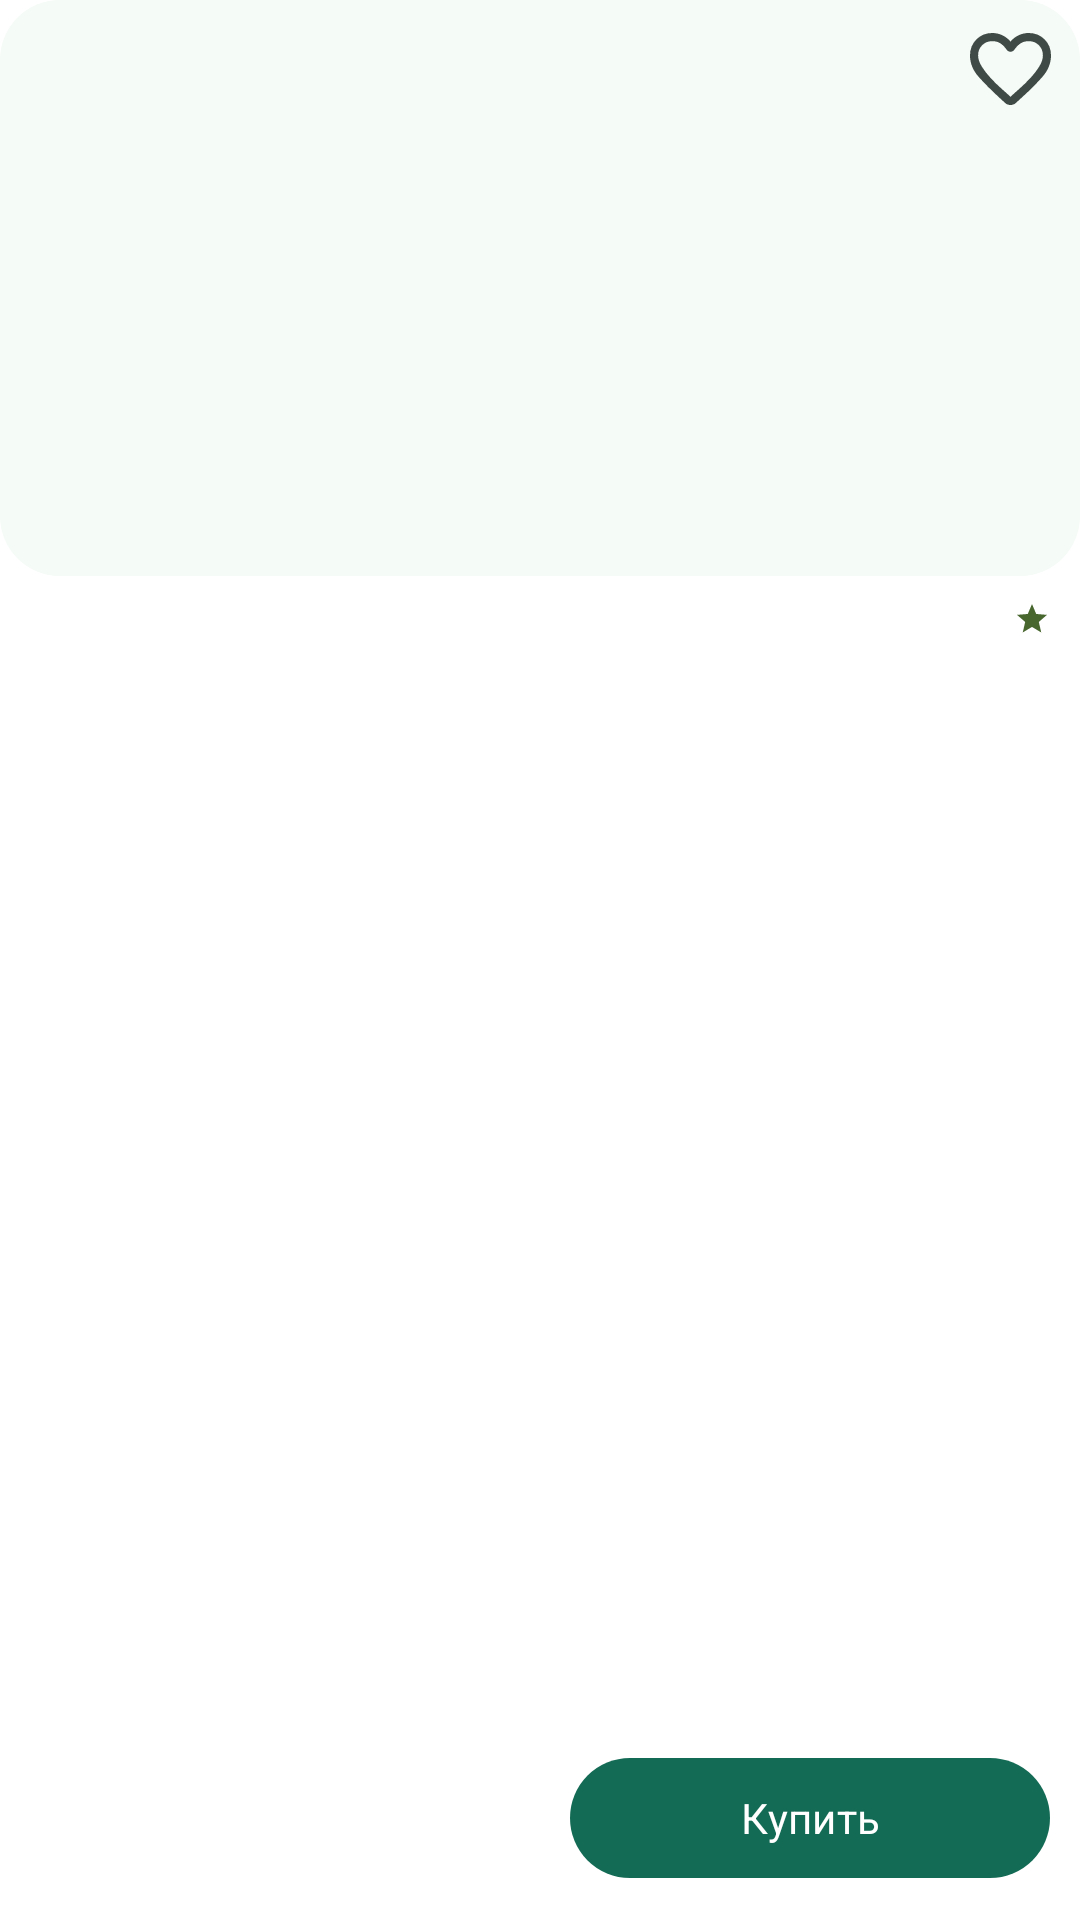

Screen size 1080x1920. Icon name, then its box in pixels as detection(x1, y1, x2, y2):
favorite: detection(970, 33, 1051, 105)
